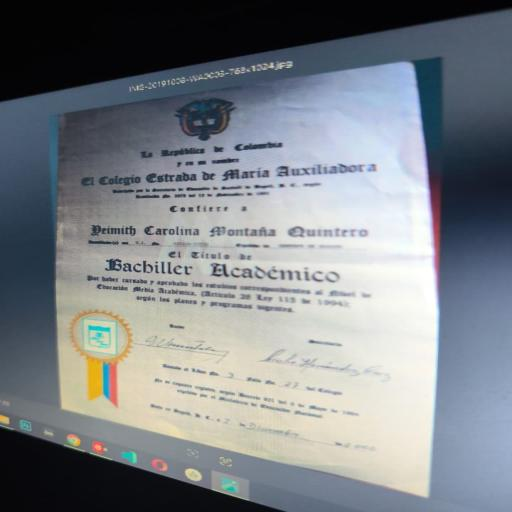bachillerato: (78, 251, 367, 289)
diploma: (57, 63, 437, 495)
escudo: (147, 95, 263, 144)
firma: (249, 344, 424, 393), (130, 308, 268, 364)
institucion: (64, 147, 401, 193)
nombre: (76, 219, 386, 249)
